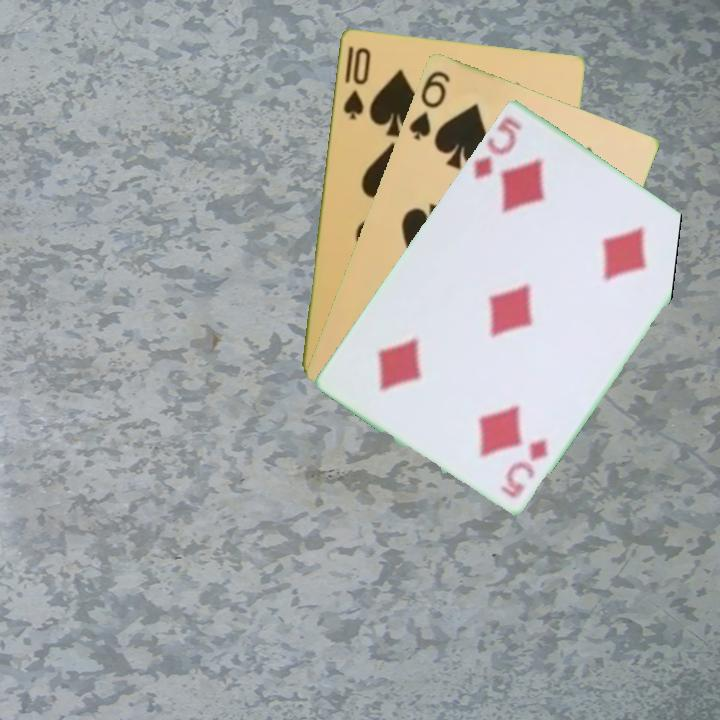10s: (339, 43, 373, 122)
5d: (470, 113, 524, 181), (496, 434, 551, 500)
6s: (405, 66, 453, 143)
